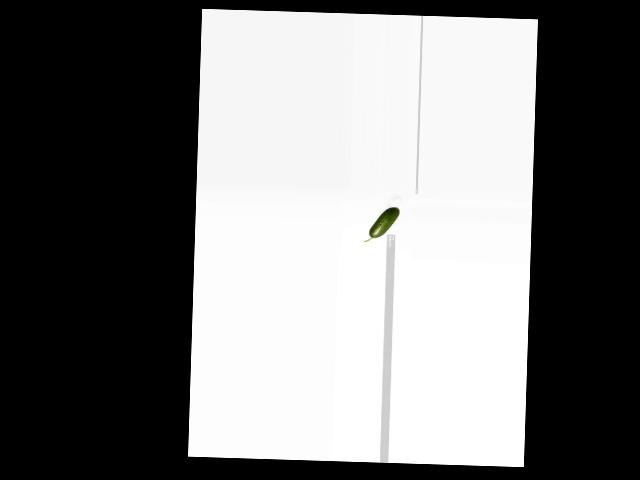cucumber: (364, 207, 400, 243)
